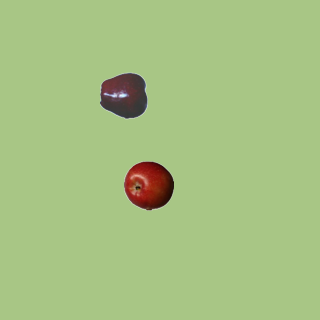Apple Braeburn: (123, 160, 173, 210)
Apple Red Delicious: (99, 70, 149, 120)
